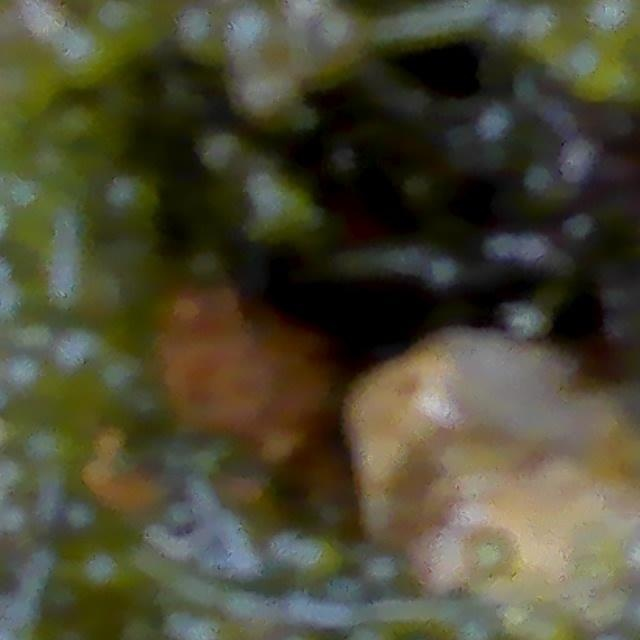SeaGrape: (462, 528, 517, 584), (527, 8, 578, 60), (591, 0, 640, 51), (570, 53, 622, 92)
